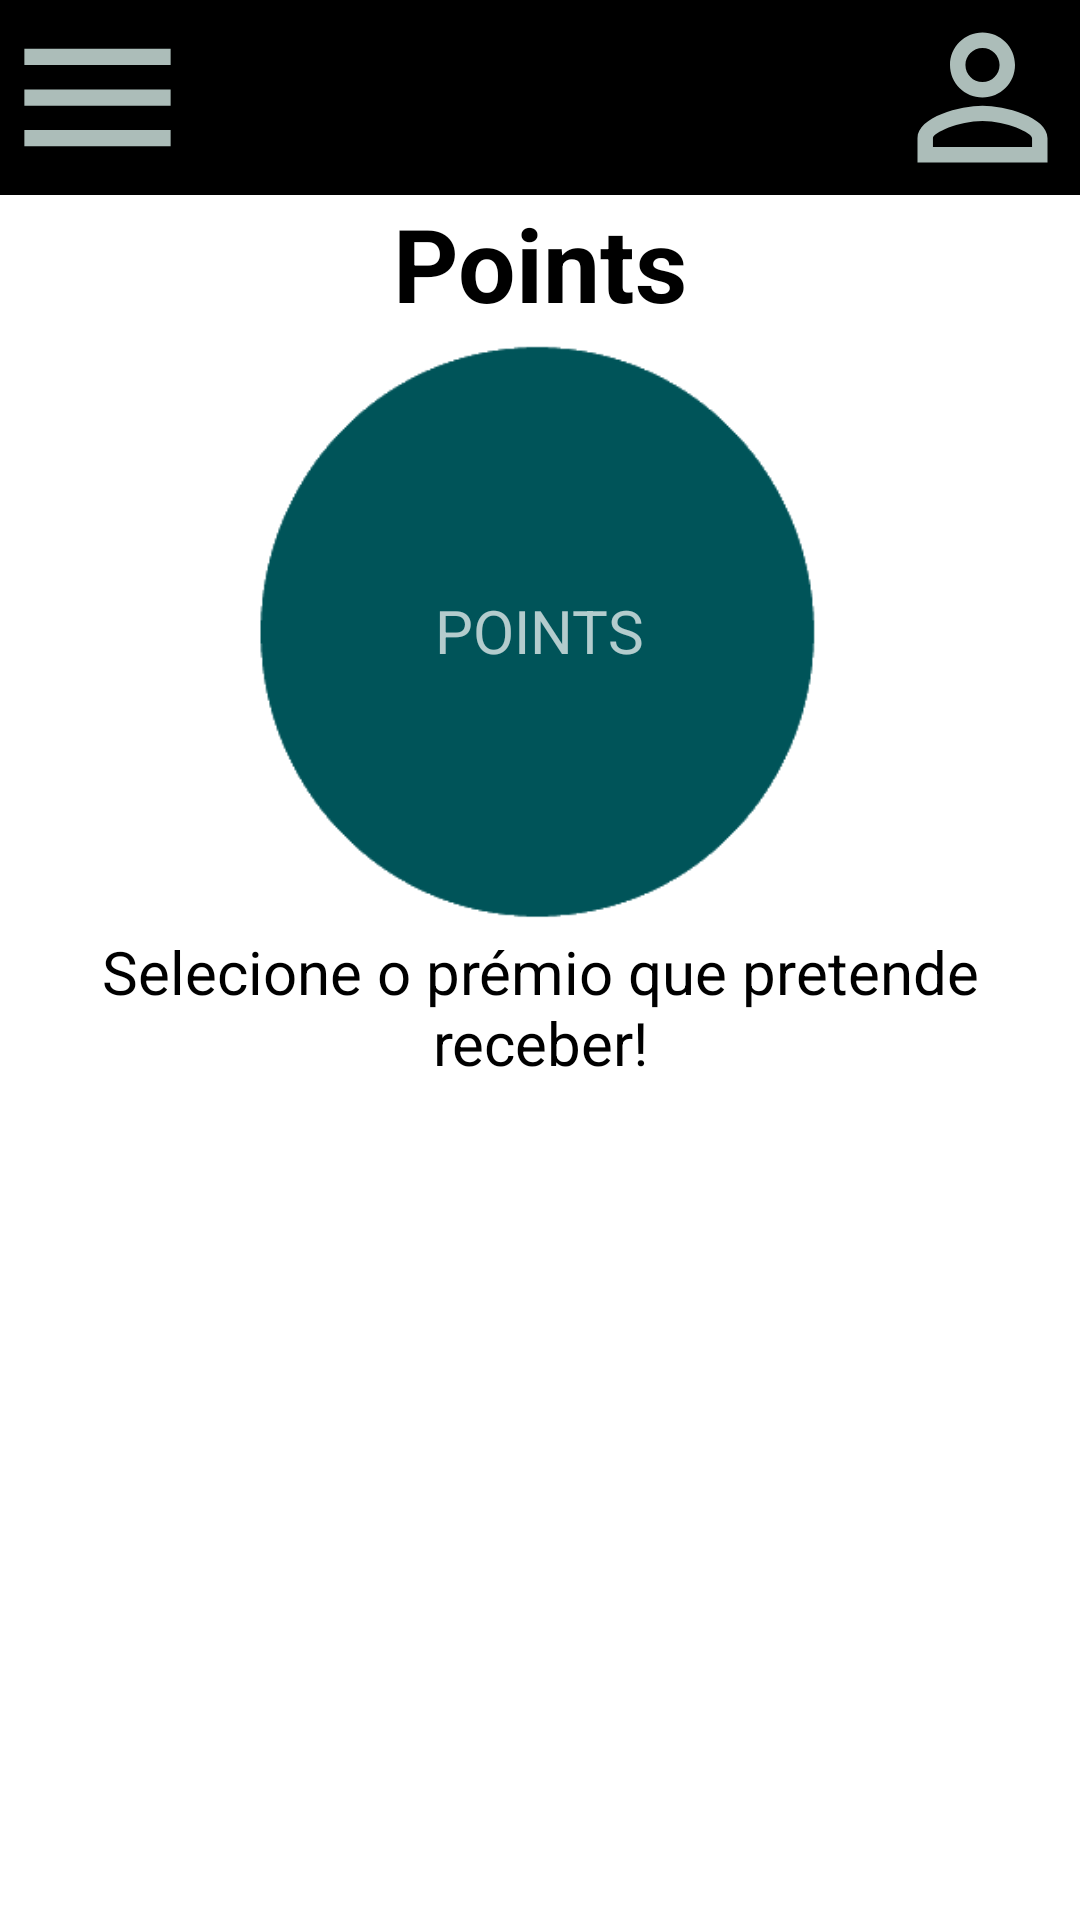

Screen size 1080*1920. Icon name, then its center in pixels as point (x, y):
menu: point (97, 97)
person: point (982, 97)
